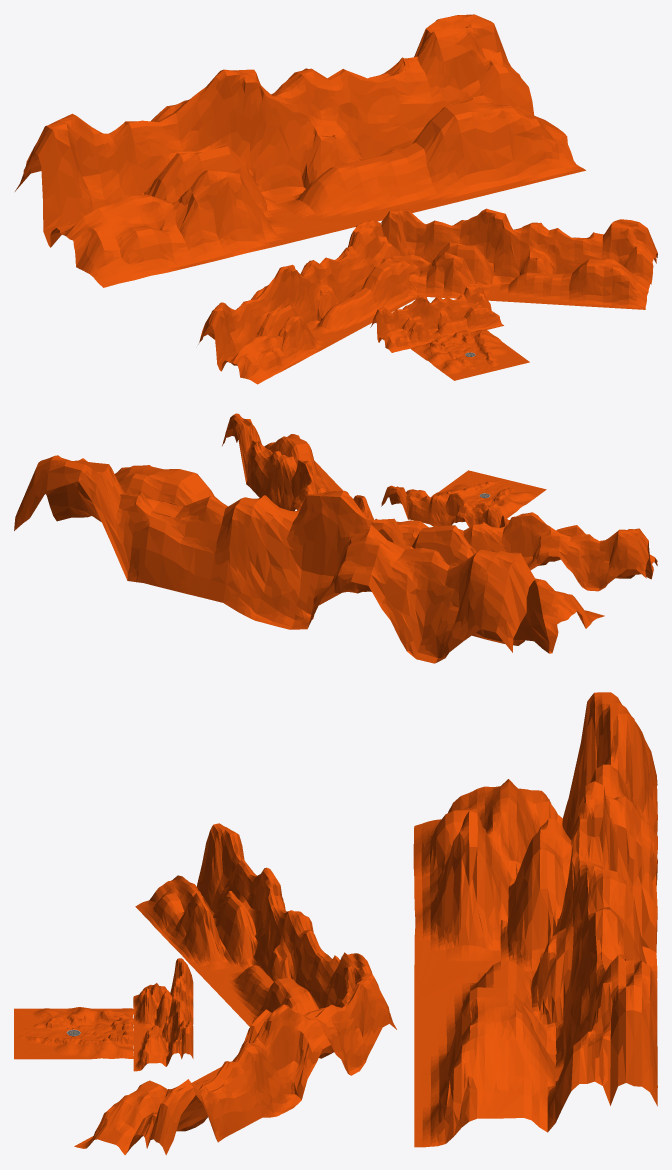
Rendered from Map.glb.
3 views of the same model, one above another, from view 1: azimuth 30°, elevation 25°; view 2: azimuth 150°, elevation 25°; view 3: azimuth 270°, elevation 25° (orthographic). The views are drawn at different scales.
Parts seen in each view (by area): view 1: FarLand.003, FarLand.001, FarLand.002, FarLand, Plane; view 2: FarLand.003, FarLand.002, FarLand.001, FarLand, Plane; view 3: FarLand.003, FarLand.002, FarLand.001, Plane, FarLand.
Boxes of the visible parts, left/top/right/bottom form: FarLand.003: left=15, top=14, right=585, bottom=287; FarLand.001: left=380, top=208, right=657, bottom=309; FarLand.002: left=198, top=220, right=420, bottom=384; FarLand: left=370, top=283, right=503, bottom=352; Plane: left=410, top=329, right=529, bottom=380; FarLand.003: left=14, top=455, right=604, bottom=663; FarLand.002: left=367, top=512, right=657, bottom=591; FarLand.001: left=222, top=413, right=373, bottom=519; FarLand: left=381, top=485, right=509, bottom=527; Plane: left=431, top=470, right=546, bottom=518; FarLand.003: left=413, top=692, right=657, bottom=1147; FarLand.002: left=135, top=823, right=372, bottom=1026; FarLand.001: left=74, top=973, right=396, bottom=1155; Plane: left=14, top=1007, right=133, bottom=1059; FarLand: left=133, top=958, right=193, bottom=1071.
Size of the model in its own units: 129 by 40.09 by 108.
